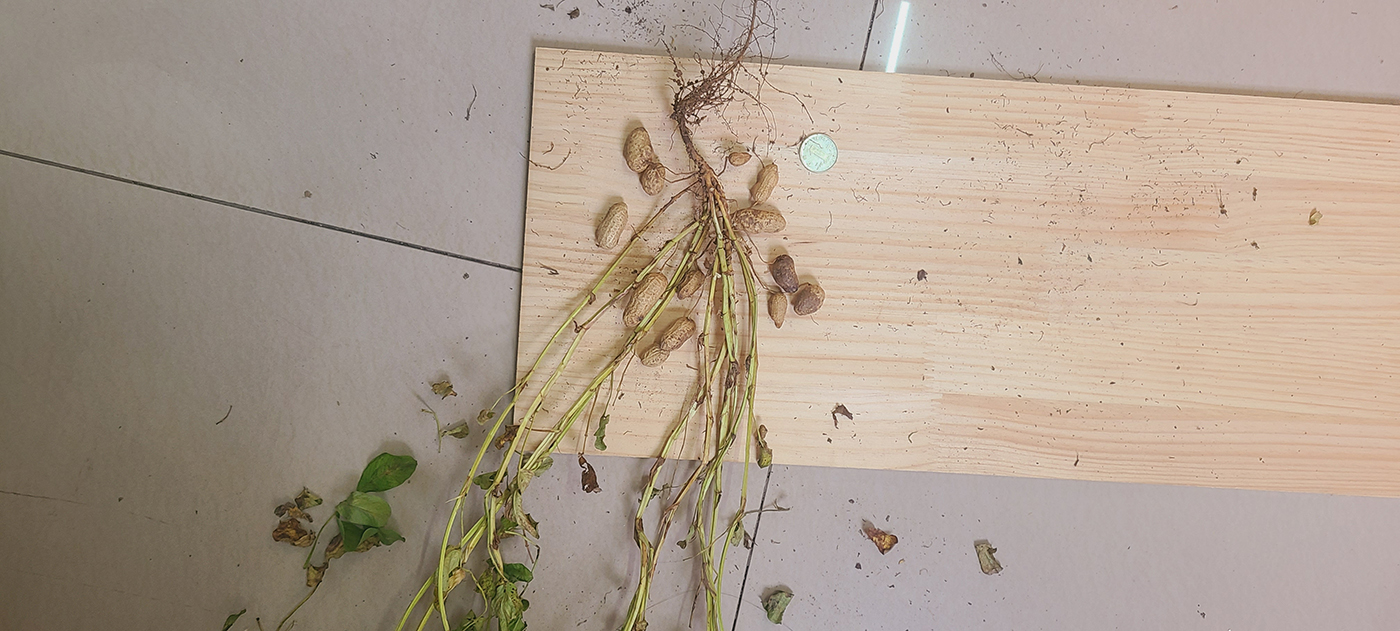h: (639, 317, 698, 367), (621, 272, 667, 328), (595, 201, 629, 250), (734, 209, 786, 234), (748, 163, 779, 204), (625, 127, 652, 173), (676, 268, 705, 299), (641, 163, 668, 196), (768, 292, 788, 328)
l: (771, 254, 800, 292), (793, 285, 826, 315)
